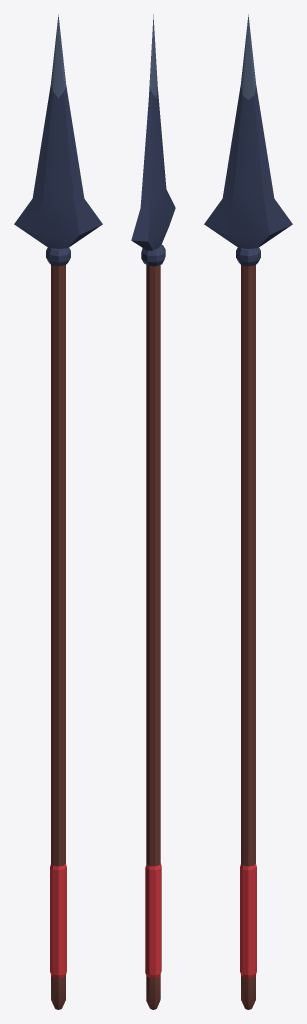
The model's file is Polearm_04.fbx.
3 renders of one model, left to right at view 1: azimuth 90°, elevation 25°; view 2: azimuth 150°, elevation 25°; view 3: azimuth 270°, elevation 25°, orthographic.
Visible parts, largest first — view 1: Polearm_04; view 2: Polearm_04; view 3: Polearm_04.
Part boxes in pixels (box(x1,y1,x2,y2)): Polearm_04: box(14, 14, 102, 1009); Polearm_04: box(131, 14, 175, 1009); Polearm_04: box(204, 14, 292, 1009).
Bounding box in the file's own units: 6.47 × 281 × 22.73.
